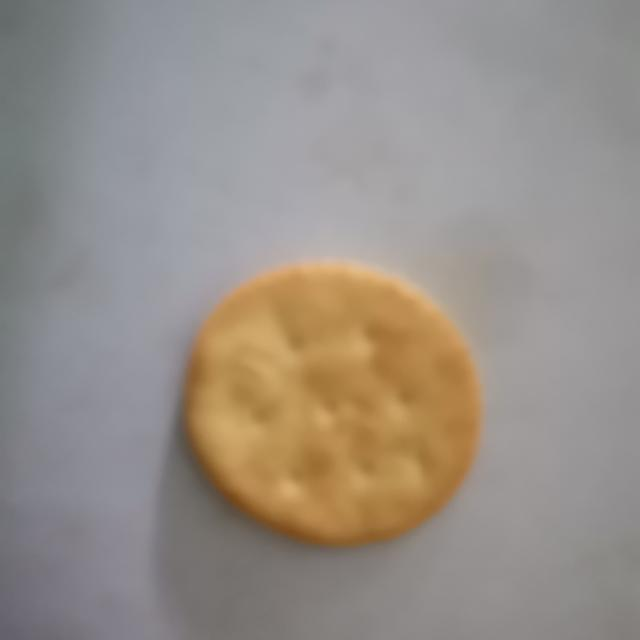Intact: (178, 253, 492, 561)
